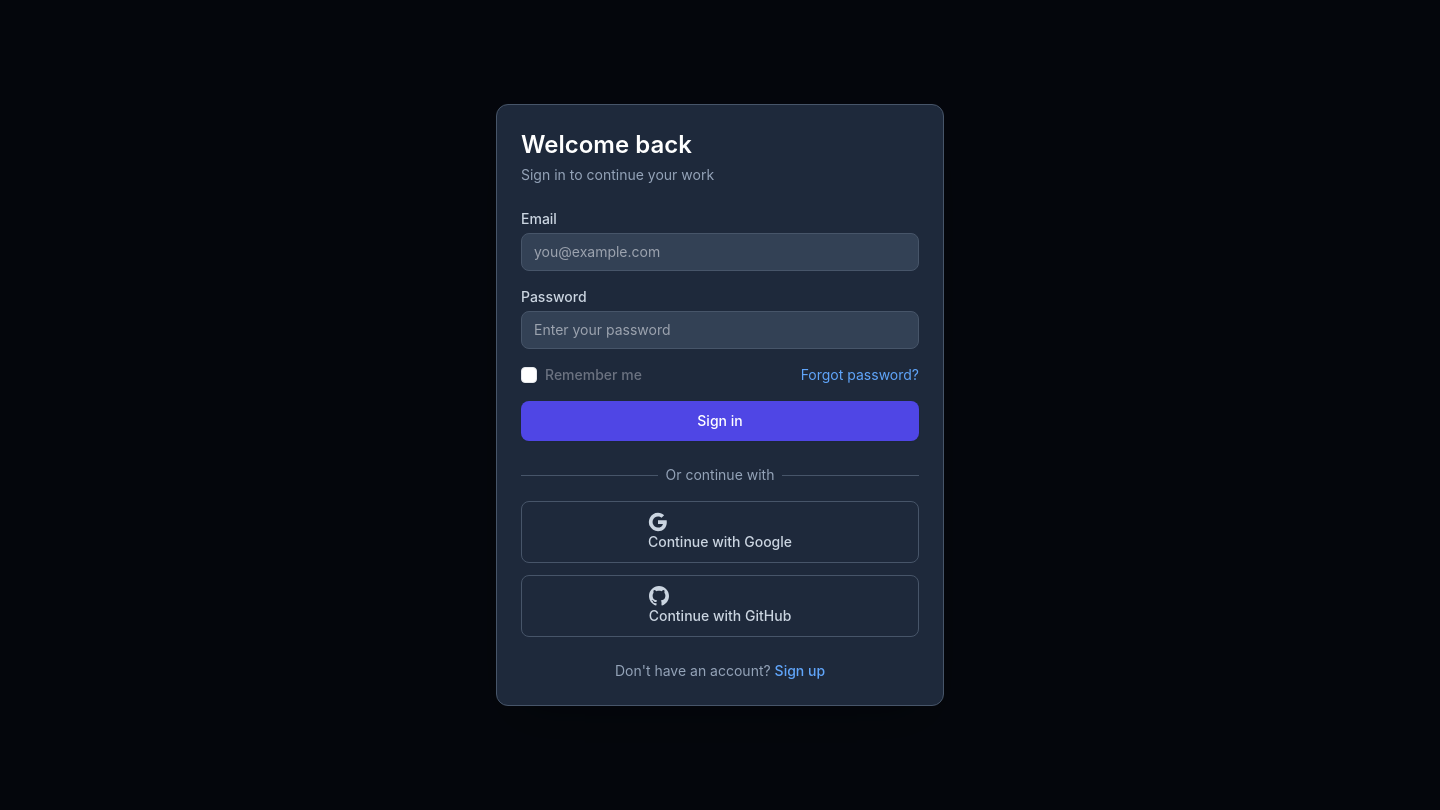
it: Authentication System Tests › LoginForm › displays error message on login failure
Type "test@example.com" into the field labelled "Email" at (720, 252), box [521,233,919,271]
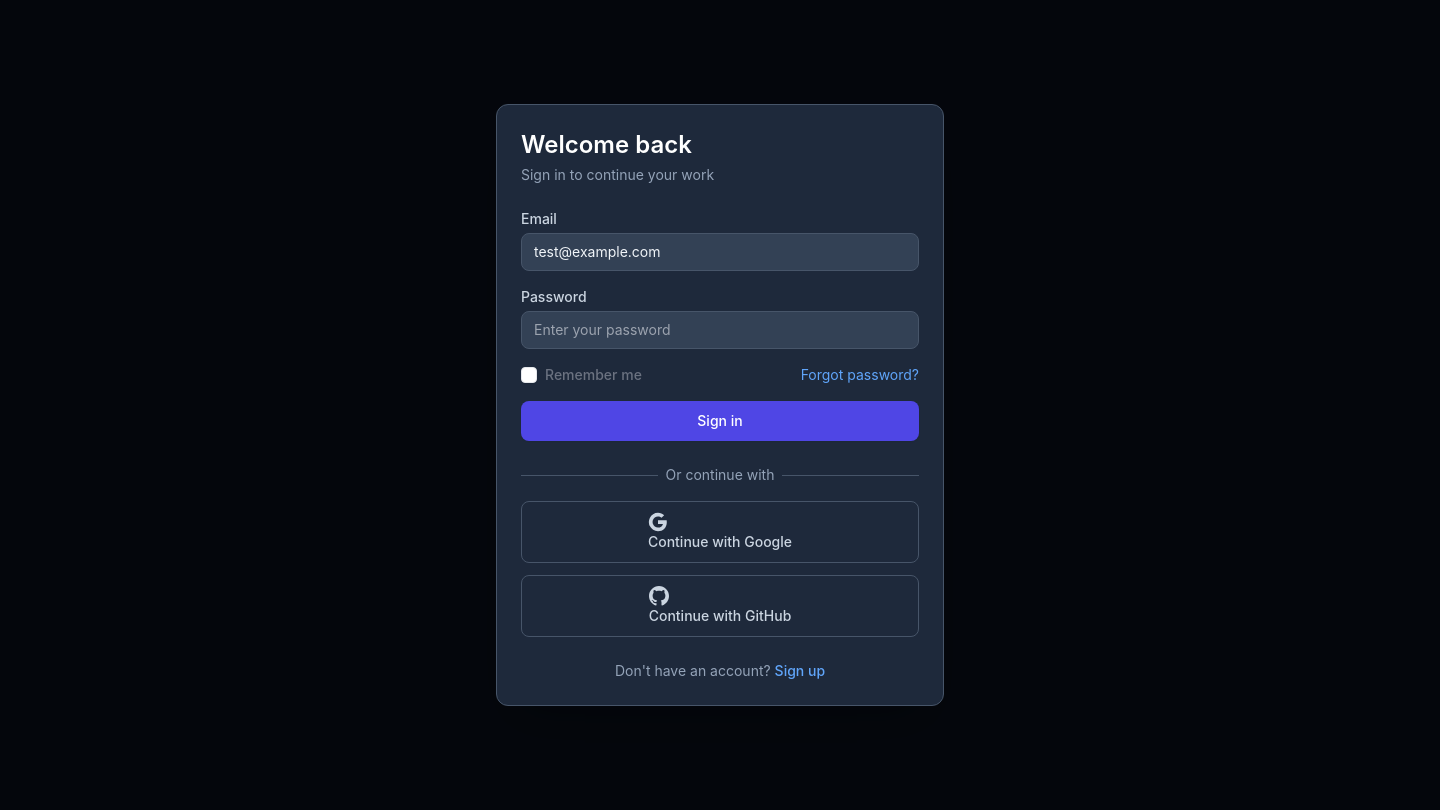
Type "wrong" into the password field labelled "Password" at (720, 330), box [521,311,919,349]
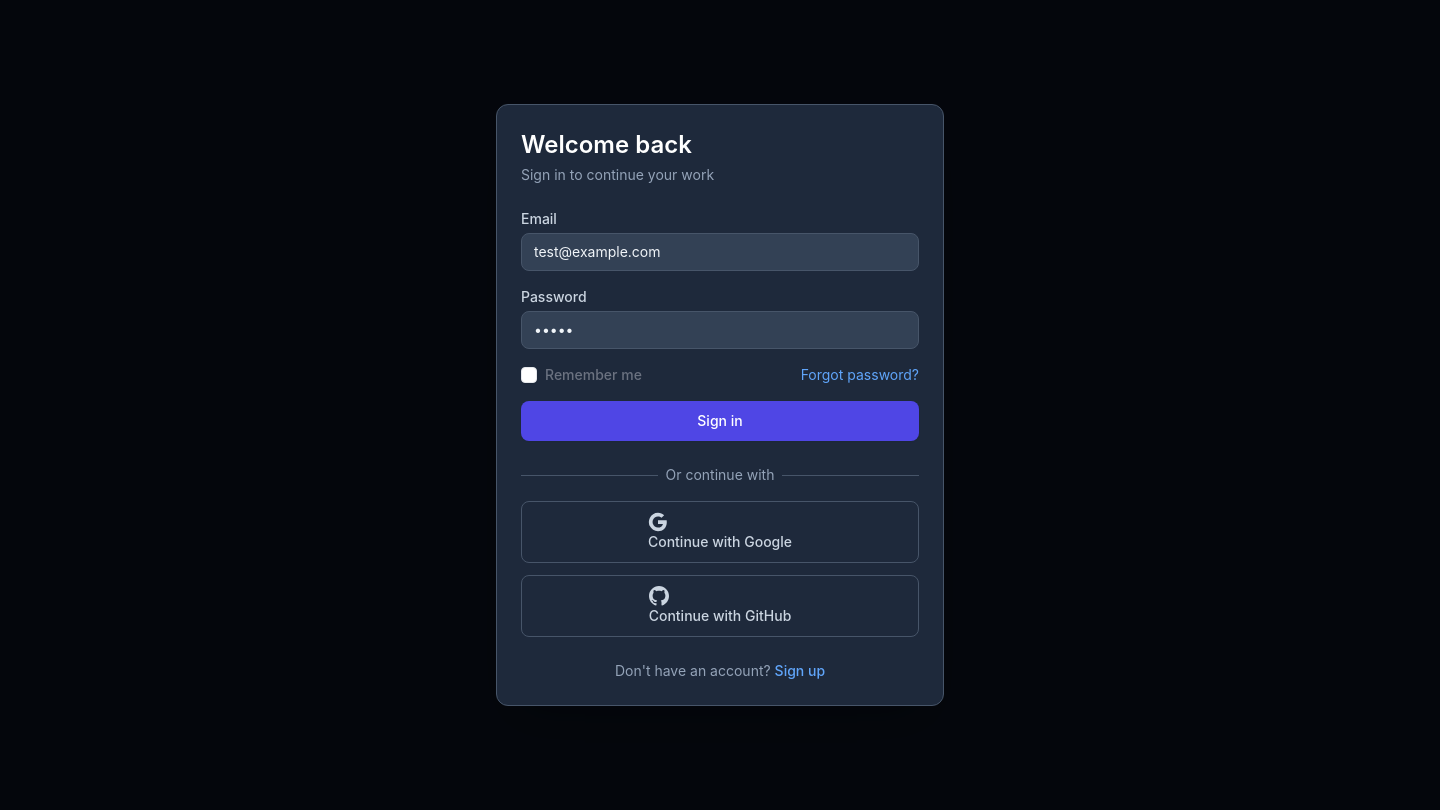
Click the button "Sign in" at (720, 421), box [521,401,919,441]
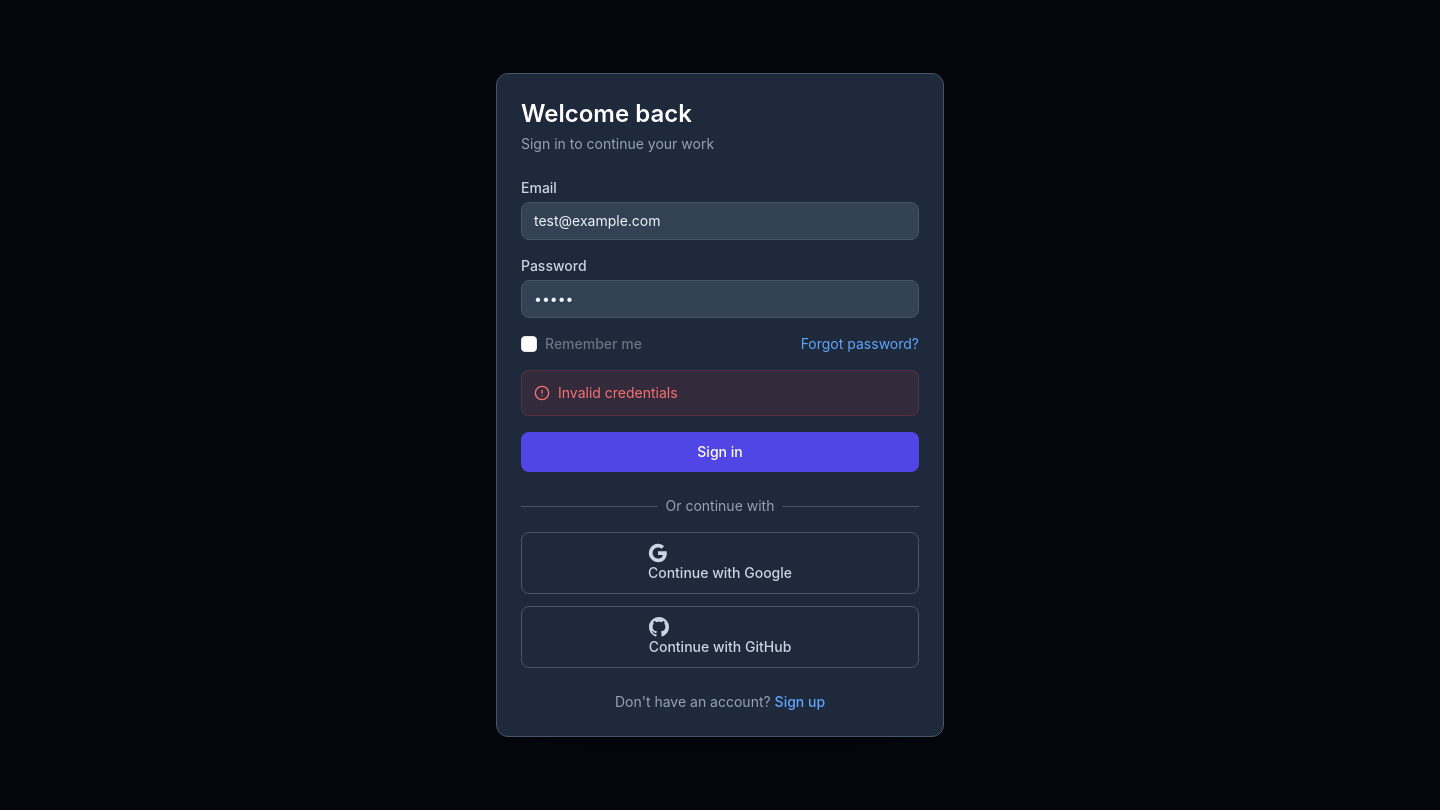
Expected: the text "Invalid credentials" is shown, [558,383,678,403]
